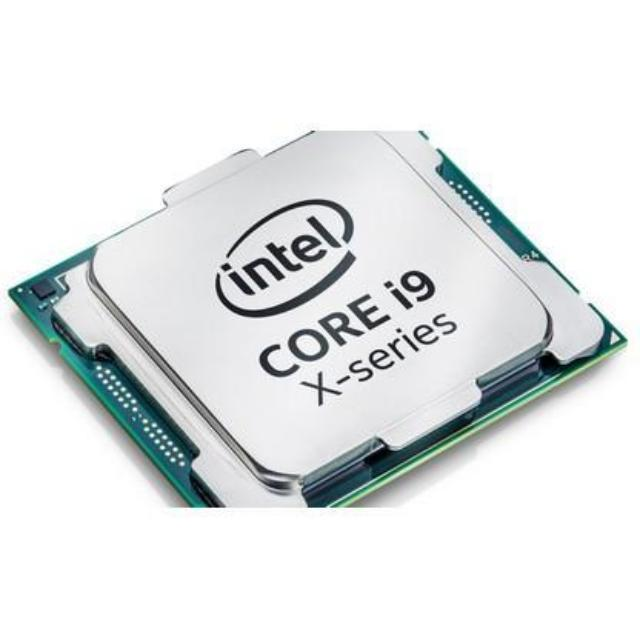CPU: (64, 127, 607, 484)
